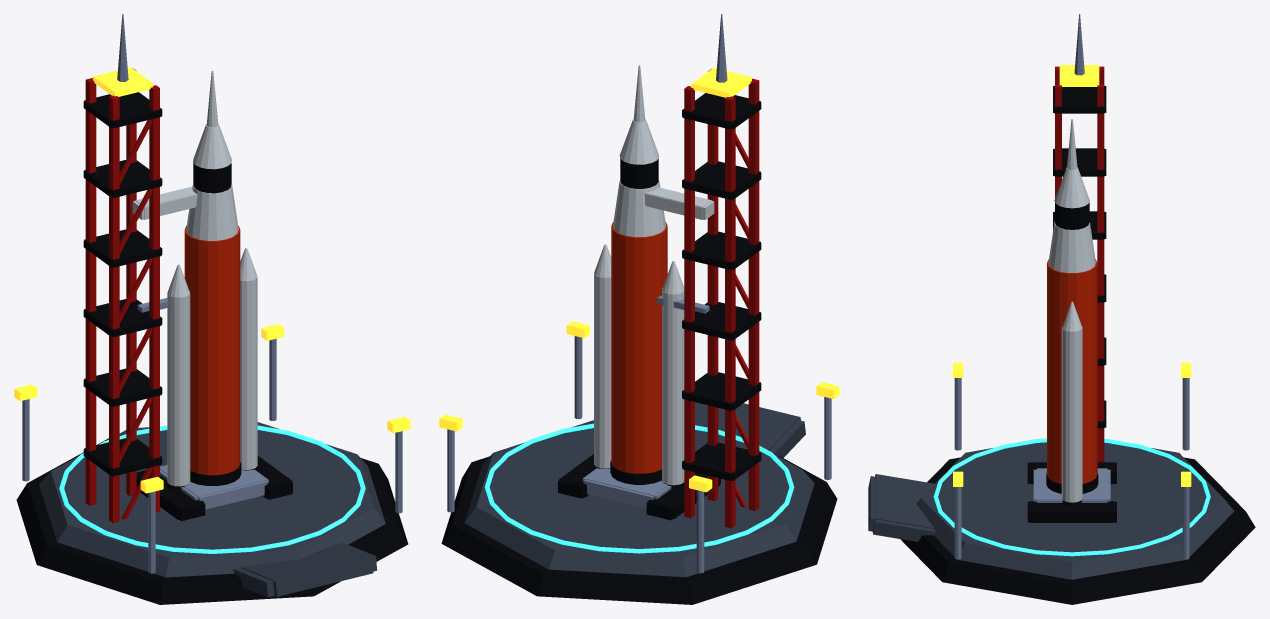
The model's file is earth_launch_complex.glb.
3 views of the same model, side by side, from view 1: azimuth 30°, elevation 25°; view 2: azimuth 150°, elevation 25°; view 3: azimuth 270°, elevation 25° (orthographic). The views are drawn at different scales.
Visible parts, largest first — view 1: LaunchComplexBody, LaunchComplexGlow; view 2: LaunchComplexBody, LaunchComplexGlow; view 3: LaunchComplexBody, LaunchComplexGlow.
Boxes of the visible parts, box(x1,y1,x2,y2) form: LaunchComplexBody: box(16, 14, 408, 604); LaunchComplexGlow: box(14, 67, 410, 553); LaunchComplexBody: box(441, 14, 837, 604); LaunchComplexGlow: box(439, 67, 839, 553); LaunchComplexBody: box(868, 14, 1255, 604); LaunchComplexGlow: box(933, 65, 1210, 556).
Size of the model in its own units: 14.8 by 21.16 by 15.62.
